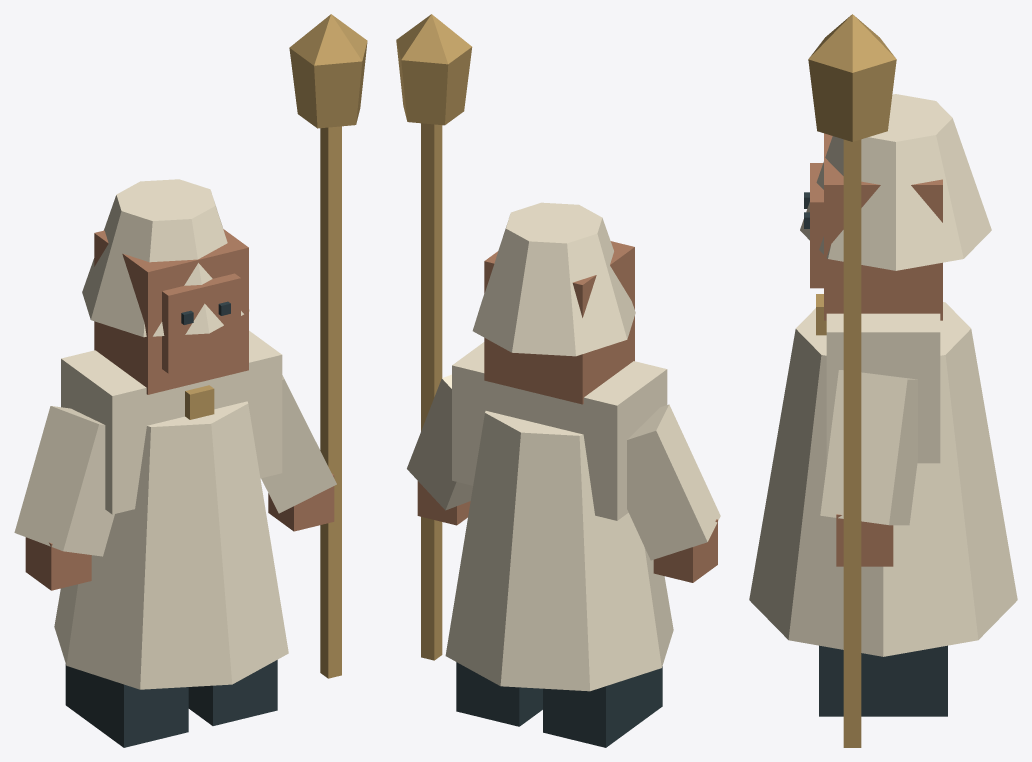
The model's file is NPC_RebirthKeeper.glb.
3 views of the same model, side by side, from view 1: azimuth 30°, elevation 25°; view 2: azimuth 150°, elevation 25°; view 3: azimuth 270°, elevation 25° (orthographic). The views are drawn at different scales.
Parts seen in each view (by area): view 1: NPC_RebirthKeeper_Keeper robes_-1_-1, NPC_RebirthKeeper_Warm skin_-1_-1, NPC_RebirthKeeper_Aged gold_-1_-1, NPC_RebirthKeeper_Ironwork_-1_-1; view 2: NPC_RebirthKeeper_Keeper robes_-1_-1, NPC_RebirthKeeper_Aged gold_-1_-1, NPC_RebirthKeeper_Warm skin_-1_-1, NPC_RebirthKeeper_Ironwork_-1_-1; view 3: NPC_RebirthKeeper_Keeper robes_-1_-1, NPC_RebirthKeeper_Aged gold_-1_-1, NPC_RebirthKeeper_Warm skin_-1_-1, NPC_RebirthKeeper_Ironwork_-1_-1.
Boxes of the visible parts, box(x1,y1,x2,y2) form: NPC_RebirthKeeper_Keeper robes_-1_-1: box(14, 179, 336, 689); NPC_RebirthKeeper_Warm skin_-1_-1: box(25, 229, 334, 590); NPC_RebirthKeeper_Aged gold_-1_-1: box(185, 14, 367, 678); NPC_RebirthKeeper_Ironwork_-1_-1: box(65, 301, 277, 747); NPC_RebirthKeeper_Keeper robes_-1_-1: box(407, 202, 720, 691); NPC_RebirthKeeper_Aged gold_-1_-1: box(396, 14, 472, 660); NPC_RebirthKeeper_Warm skin_-1_-1: box(417, 241, 717, 582); NPC_RebirthKeeper_Ironwork_-1_-1: box(456, 662, 662, 747); NPC_RebirthKeeper_Keeper robes_-1_-1: box(749, 94, 1017, 656); NPC_RebirthKeeper_Aged gold_-1_-1: box(808, 14, 896, 747); NPC_RebirthKeeper_Warm skin_-1_-1: box(810, 133, 942, 566); NPC_RebirthKeeper_Ironwork_-1_-1: box(804, 192, 947, 716).
Size of the model in its own units: 4.16 by 7.9 by 2.6.
